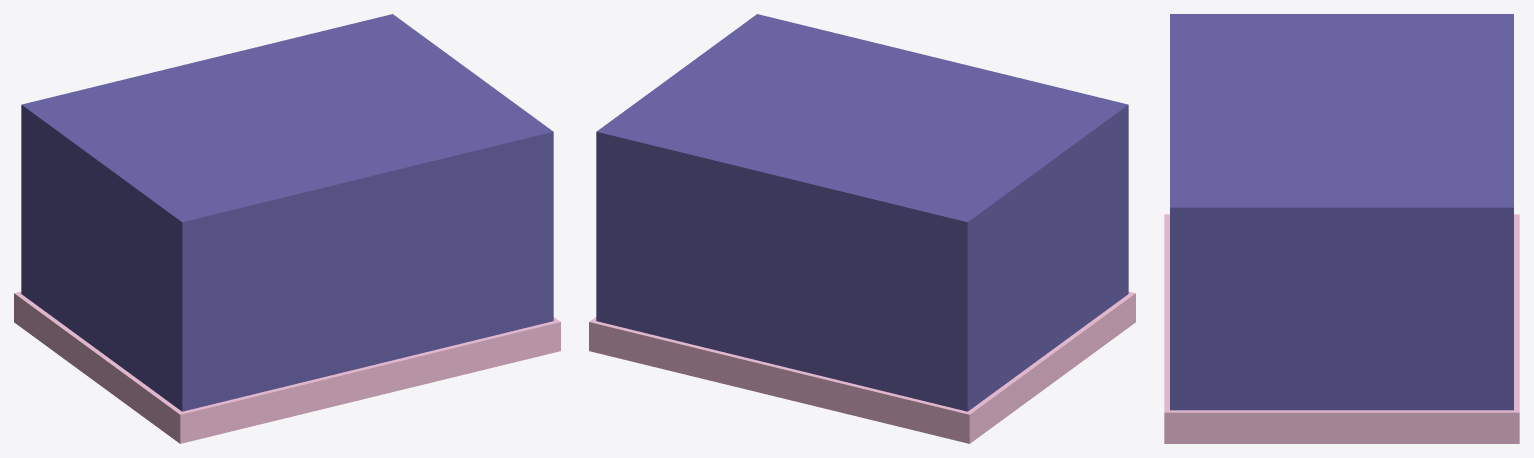
Rendered from yukata_manga_inf.glb.
The picture shows the model from 3 angles, left to right: view 1: azimuth 30°, elevation 25°; view 2: azimuth 150°, elevation 25°; view 3: azimuth 270°, elevation 25°; orthographic projection. The views are drawn at different scales.
Parts seen in each view (by area): view 1: yukata_manga_inf; view 2: yukata_manga_inf; view 3: yukata_manga_inf.
Part boxes in pixels (<box>): yukata_manga_inf: <box>14,14,560,443</box>; yukata_manga_inf: <box>589,14,1135,443</box>; yukata_manga_inf: <box>1164,14,1519,443</box>.
Size of the model in its own units: 0.41 by 0.225 by 0.31.
